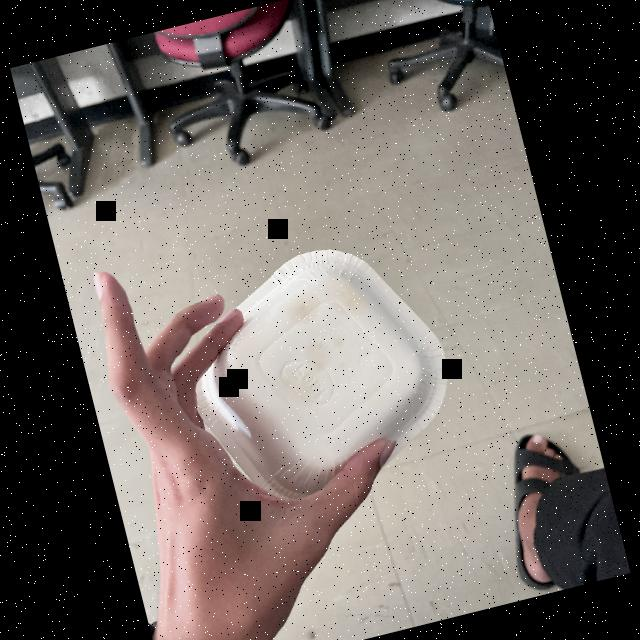cardboard_bowl: (168, 221, 476, 524)
